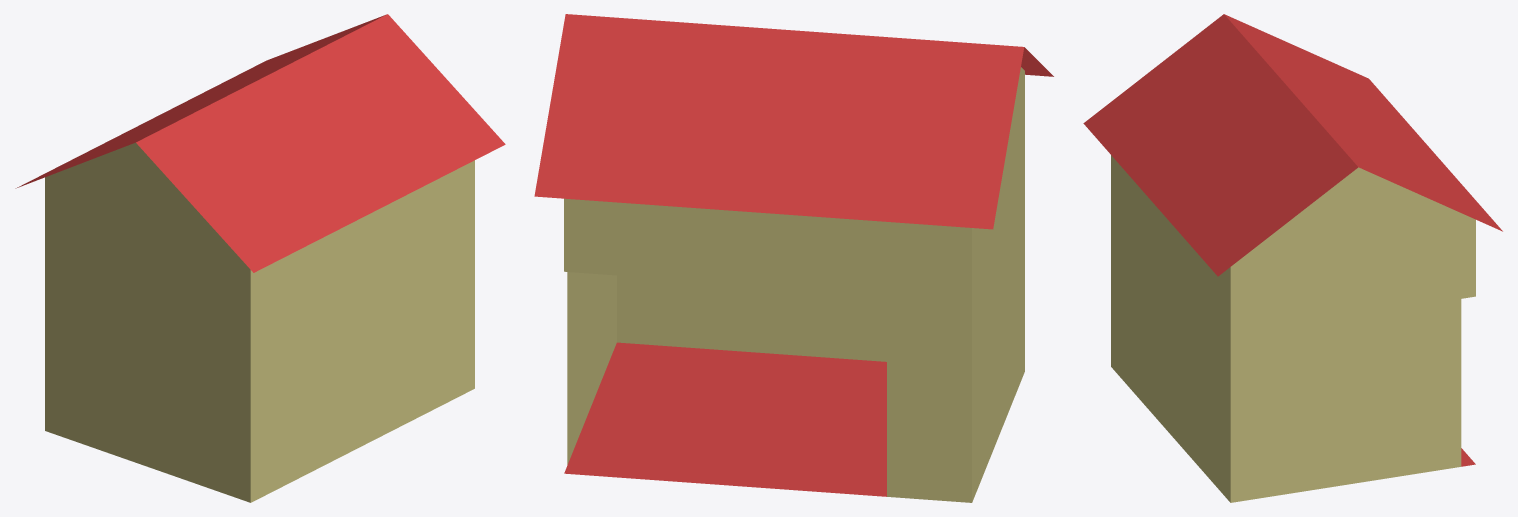
3 renders of one model, left to right at view 1: azimuth 30°, elevation 25°; view 2: azimuth 150°, elevation 25°; view 3: azimuth 270°, elevation 25°, orthographic. The views are drawn at different scales.
Size of the model in its own units: 16.42 by 14.72 by 12.57.
